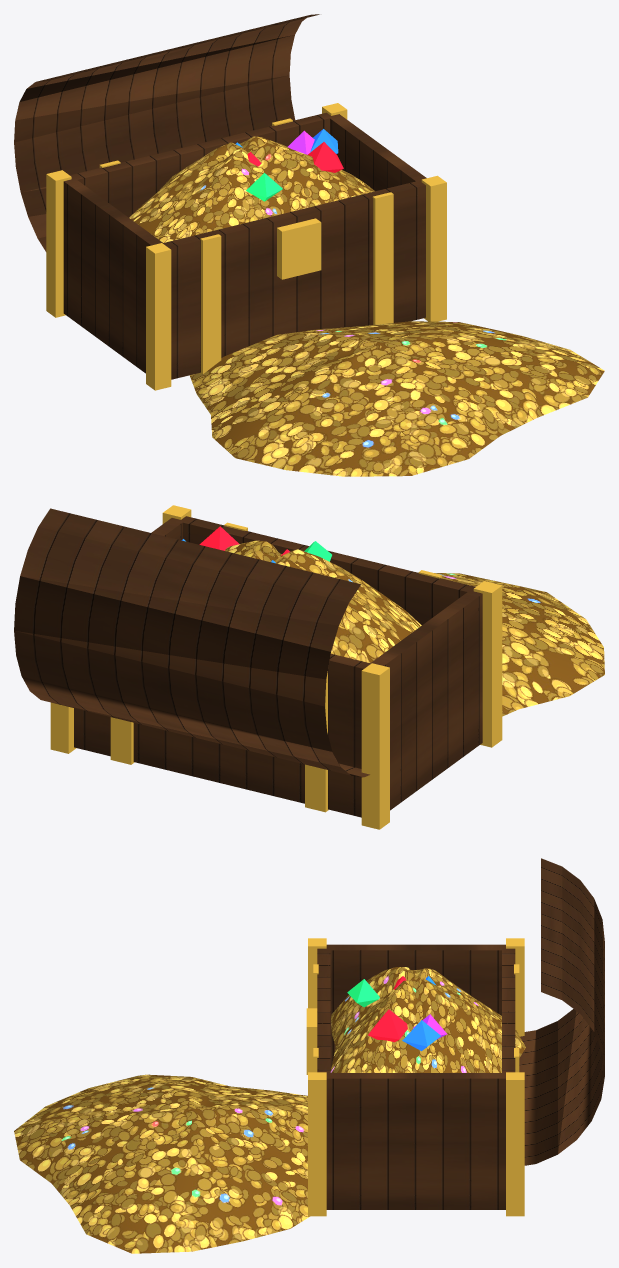
Rendered from hoard_chest.glb.
3 renders of one model, top to bottom at view 1: azimuth 30°, elevation 25°; view 2: azimuth 150°, elevation 25°; view 3: azimuth 270°, elevation 25°, orthographic. The views are drawn at different scales.
Bounding box in the file's own units: 3.19 × 1.87 × 4.48.
7 materials, 7 textured.
